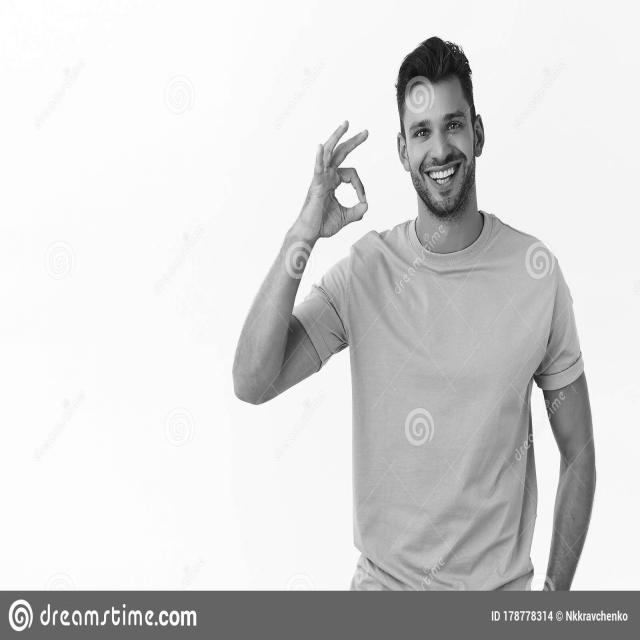perfect: (296, 109, 372, 243)
